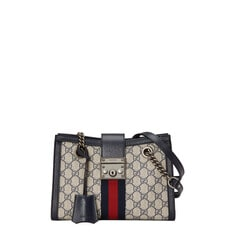Gucci: (40, 120, 187, 226), (98, 127, 138, 223)
